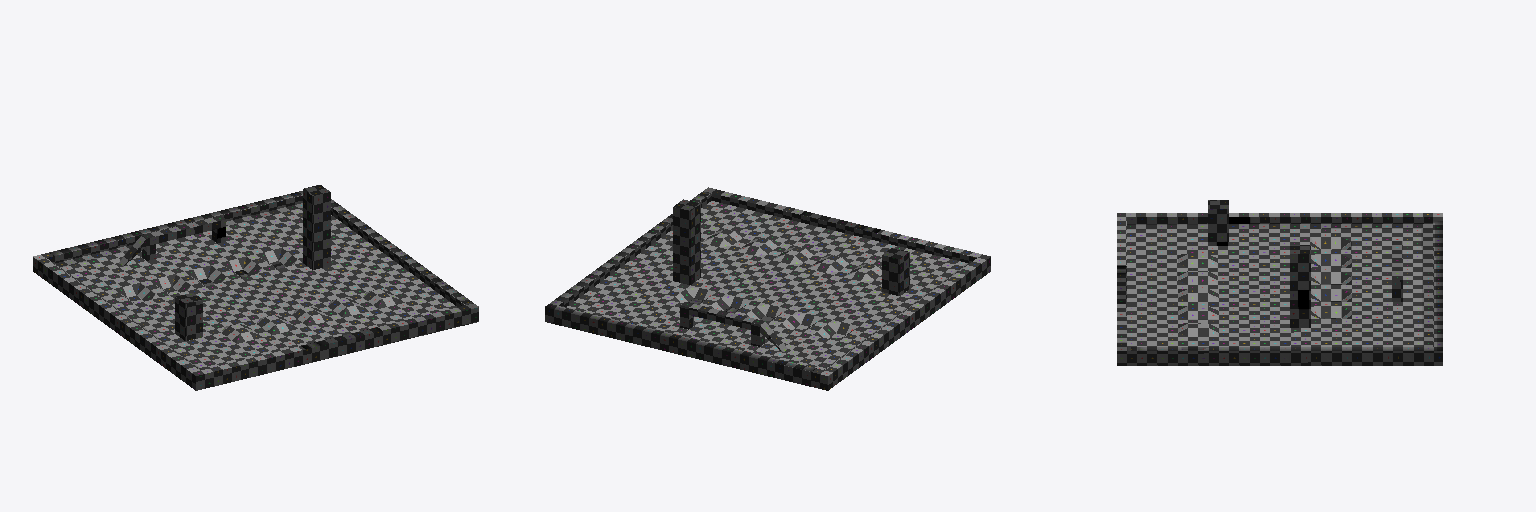
The picture shows the model from 3 angles: view 1: azimuth 30°, elevation 25°; view 2: azimuth 150°, elevation 25°; view 3: azimuth 270°, elevation 25°; orthographic projection.
Parts seen in each view (by area): view 1: Plane; view 2: Plane; view 3: Plane.
Part boxes in pixels (bbox=[...]): Plane: bbox=[33, 185, 478, 390]; Plane: bbox=[545, 187, 990, 390]; Plane: bbox=[1117, 200, 1442, 365].
Bounding box in the file's own units: 400 × 110 × 400.
Materials: 1 (1 with a texture image).